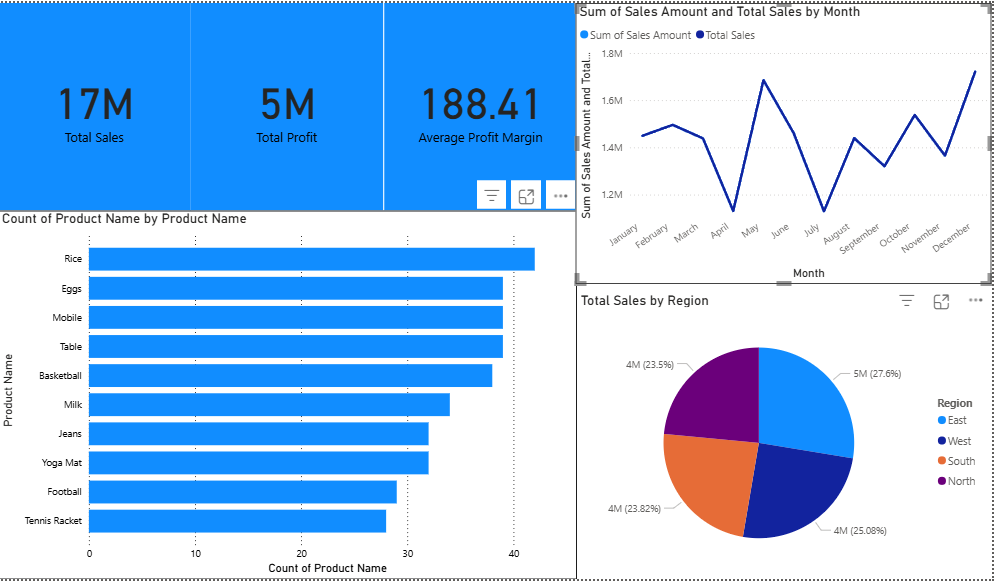

What the dashboard file says about the page in this screenshot:
{"tool":"powerbi","page":{"name":"Page 1","canvas":[1280,720],"ordinal":0},"visuals":[{"type":"card","fields":{"Values":["WellsFargo_SalesData.Average Profit Margin"]},"box":[519.7,0,241,259],"z":0},{"type":"card","fields":{"Values":["WellsFargo_SalesData.Total Profit"]},"box":[278.7,0,241,259],"z":1000},{"type":"card","fields":{"Values":["WellsFargo_SalesData.Total Sales"]},"box":[37.7,0,241,259],"z":2000},{"type":"lineChart","fields":{"Category":["WellsFargo_SalesData_1000rows.Order Date.Variation.Date Hierarchy.Month"],"Y":["Sum(WellsFargo_SalesData_1000rows.Sales Amount)","WellsFargo_SalesData.Total Sales"]},"box":[760.1,0,520,350.8],"z":3000},{"type":"pieChart","fields":{"Category":["WellsFargo_SalesData.Region"],"Y":["WellsFargo_SalesData.Total Sales"]},"box":[760.7,360.7,519.7,359],"z":4000},{"type":"actionButton","box":[0,0,100,40],"z":5000},{"type":"clusteredBarChart","fields":{"Category":["WellsFargo_SalesData. Product Name"],"Y":["CountNonNull(WellsFargo_SalesData. Product Name)"]},"box":[37.7,259,723,460.7],"z":6000}]}

Visuals, with their boxes in screenshot pixels (x1, y1, x2, y2):
card - WellsFargo_SalesData.Average Profit Margin: bbox(384, 0, 576, 206)
card - WellsFargo_SalesData.Total Profit: bbox(193, 0, 384, 206)
card - WellsFargo_SalesData.Total Sales: bbox(1, 0, 193, 206)
lineChart - WellsFargo_SalesData_1000rows.Order Date.Variation.Date Hierarchy.Month x Sum(WellsFargo_SalesData_1000rows.Sales Amount): bbox(575, 0, 988, 279)
pieChart - WellsFargo_SalesData.Region x WellsFargo_SalesData.Total Sales: bbox(576, 286, 988, 571)
actionButton: bbox(0, 0, 51, 32)
clusteredBarChart - WellsFargo_SalesData. Product Name x CountNonNull(WellsFargo_SalesData. Product Name): bbox(1, 206, 576, 571)
